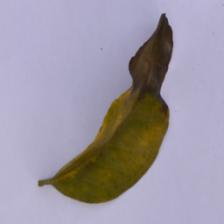black spot: (88, 32, 191, 108)
